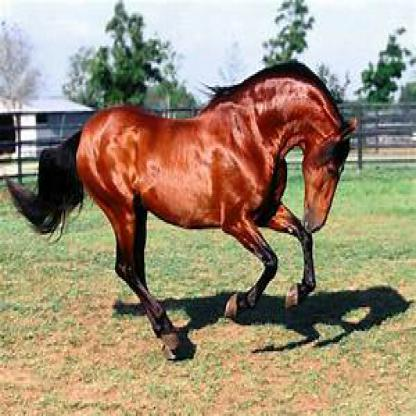horse: (7, 61, 355, 362)
